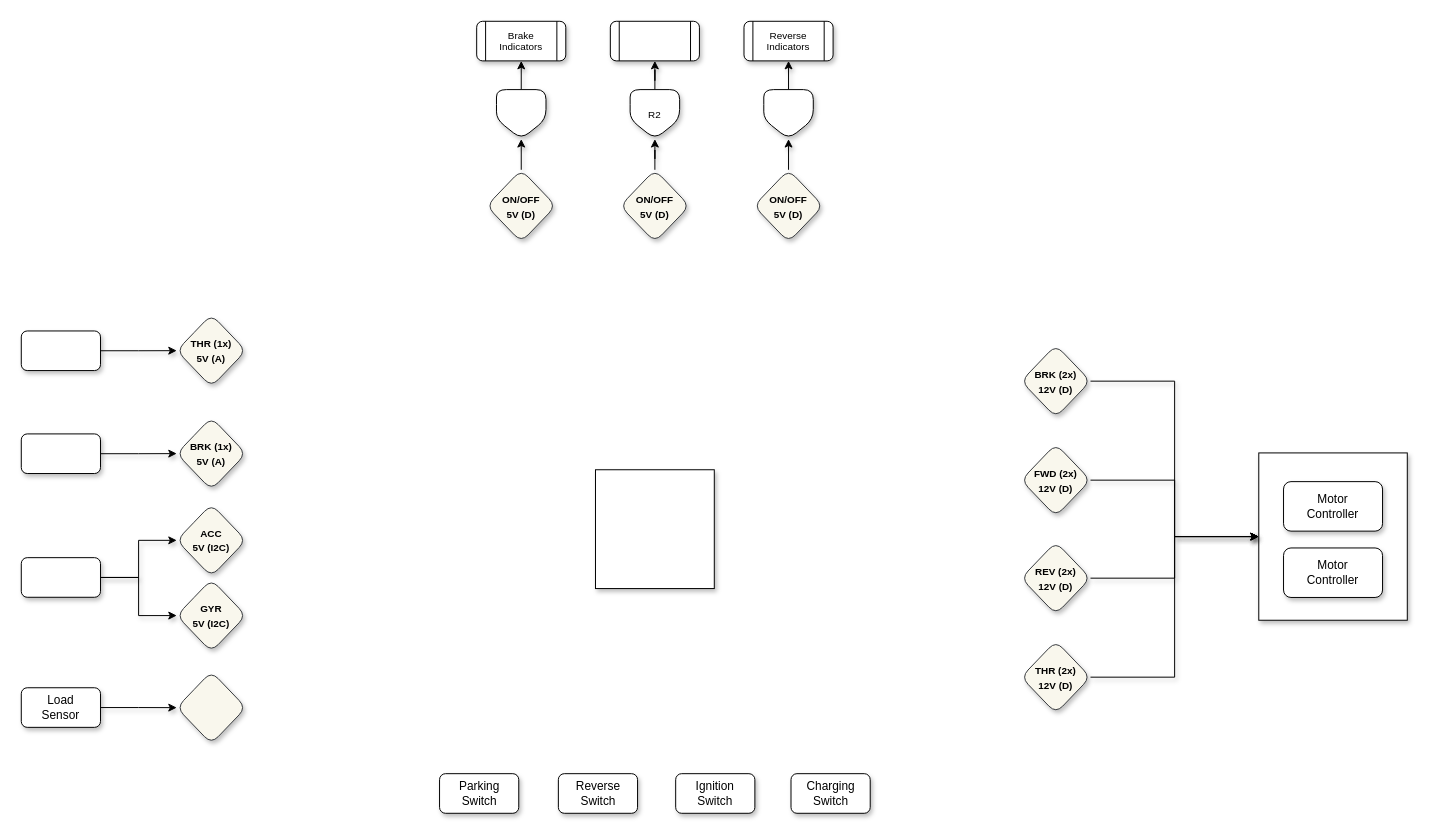
Image size: 1431x838. Some labels were removed from this diagram. Each missing label, with the centre of its shape:
Brake Sensor: the point at 61,454
Headlight: the point at 655,42
IMU Sensor: the point at 61,578
LOAD 5V (A): the point at 212,709
R1: the point at 522,115
R3: the point at 789,115
STM32F4 32-bit: the point at 655,530
Throttle Sensor: the point at 61,351
